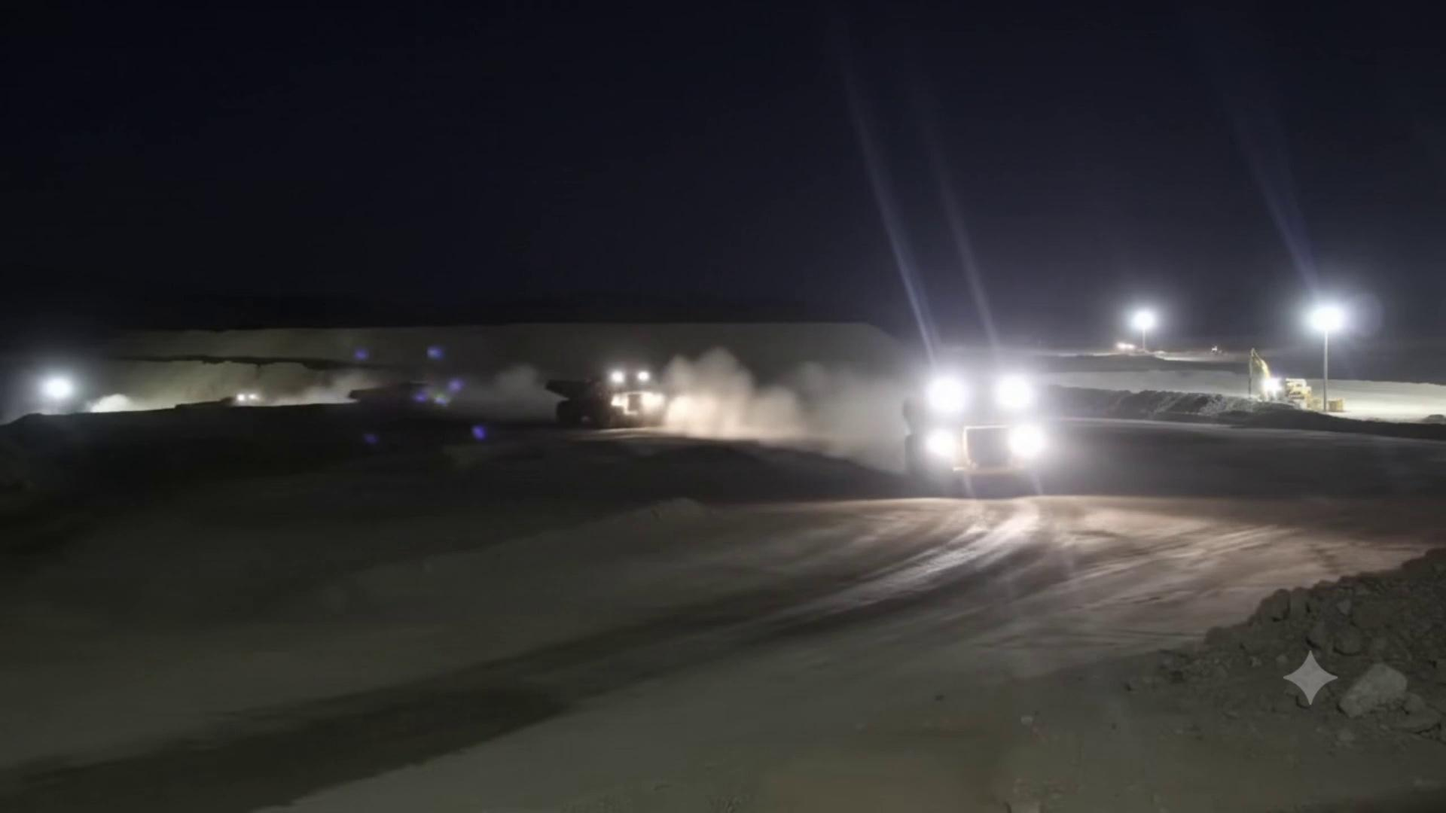CAEX: (901, 374, 1048, 494), (546, 368, 666, 428), (348, 382, 452, 410)
